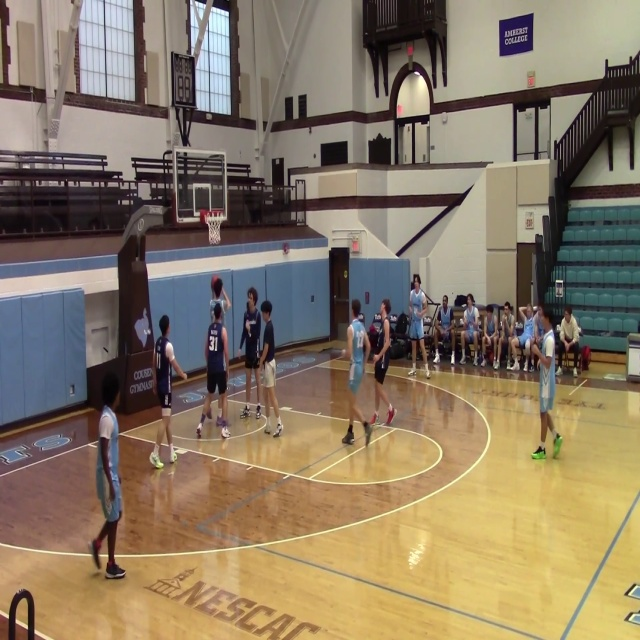Basketball: (211, 276, 222, 292), (329, 349, 344, 359)
